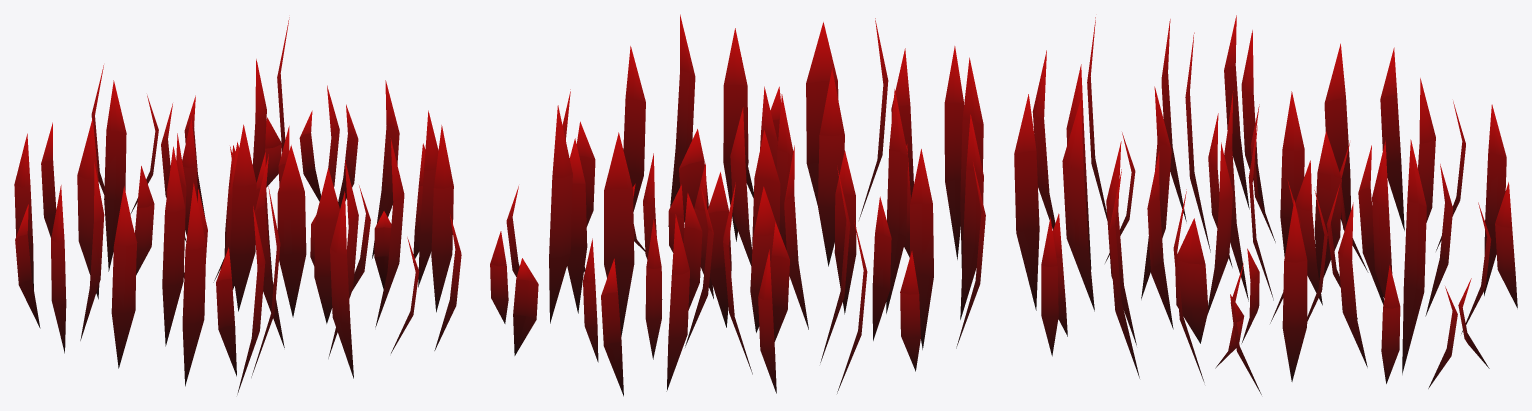
The model's file is GrassLOD1.fbx.
3 views of the same model, side by side, from view 1: azimuth 30°, elevation 25°; view 2: azimuth 150°, elevation 25°; view 3: azimuth 270°, elevation 25° (orthographic). The views are drawn at different scales.
Parts seen in each view (by area): view 1: GrassLOD1; view 2: GrassLOD1; view 3: GrassLOD1.
Boxes of the visible parts, x1,y1,x2,y2 form: GrassLOD1: (14, 17, 461, 394); GrassLOD1: (490, 14, 985, 396); GrassLOD1: (1014, 15, 1517, 394).
Size of the model in its own units: 296 by 156 by 309.
